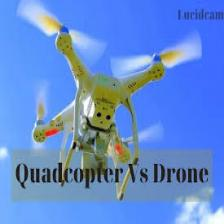drone: (14, 0, 202, 202)
